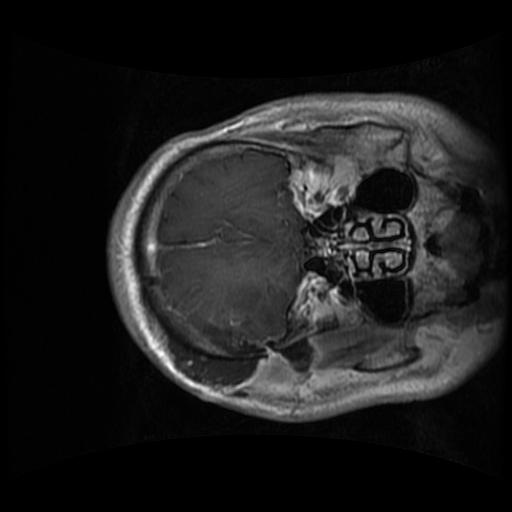glioma: (193, 284, 288, 357)
